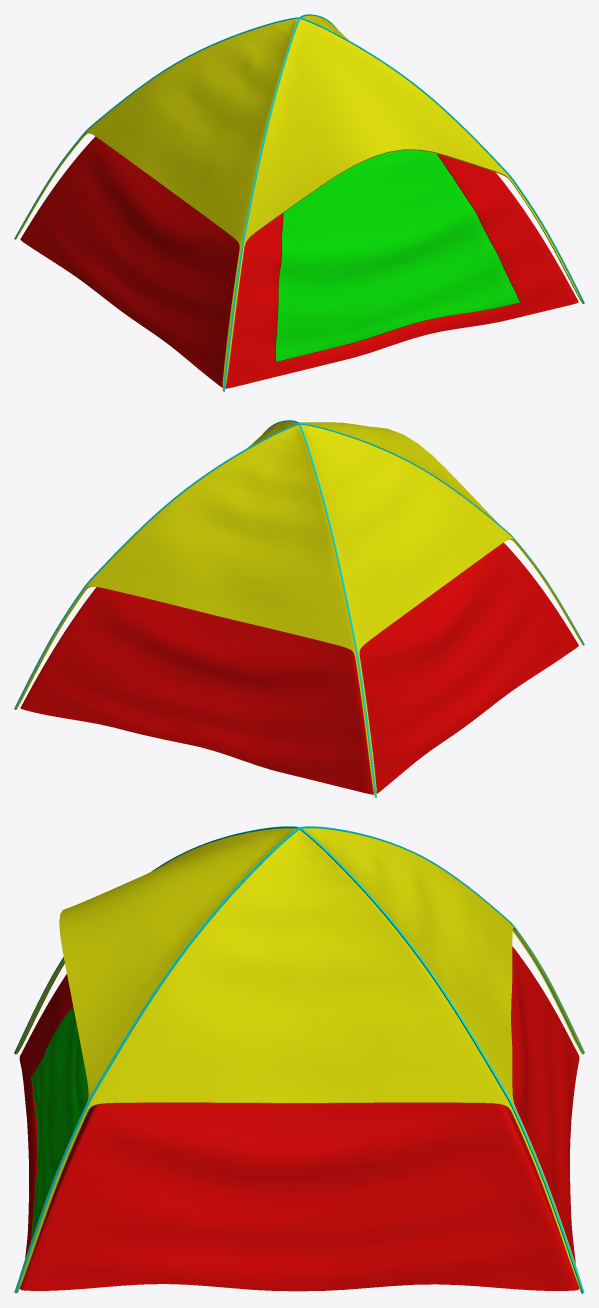
The model's file is tent.fbx.
The picture shows the model from 3 angles, top to bottom: view 1: azimuth 30°, elevation 25°; view 2: azimuth 150°, elevation 25°; view 3: azimuth 270°, elevation 25°; orthographic projection. The views are drawn at different scales.
Parts seen in each view (by area): view 1: tent.001; view 2: tent.001; view 3: tent.001.
Part boxes in pixels (x1,y1,x2,y2): tent.001: [14, 14, 584, 391]; tent.001: [14, 420, 584, 797]; tent.001: [14, 826, 584, 1293].
Bounding box in the file's own units: 176 × 119 × 176.
